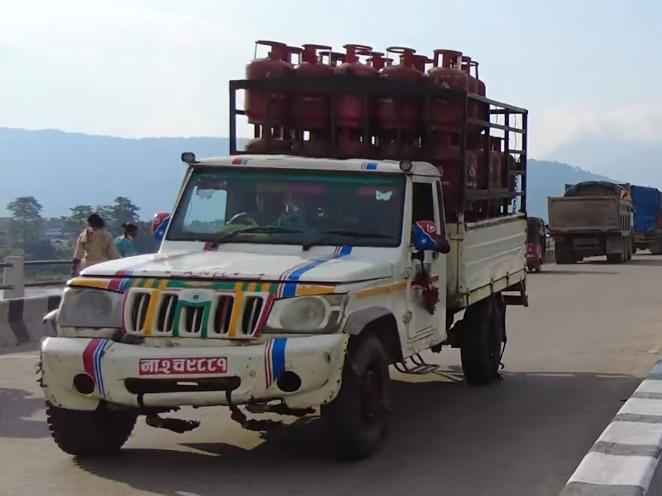transport_vehicle: (31, 40, 544, 496)
truck: (545, 158, 640, 264), (624, 172, 662, 259)
